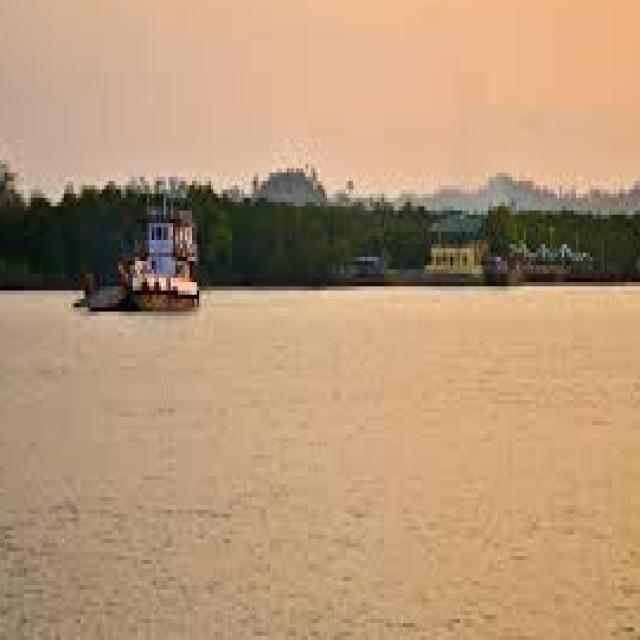cargoship: (74, 137, 224, 330)
